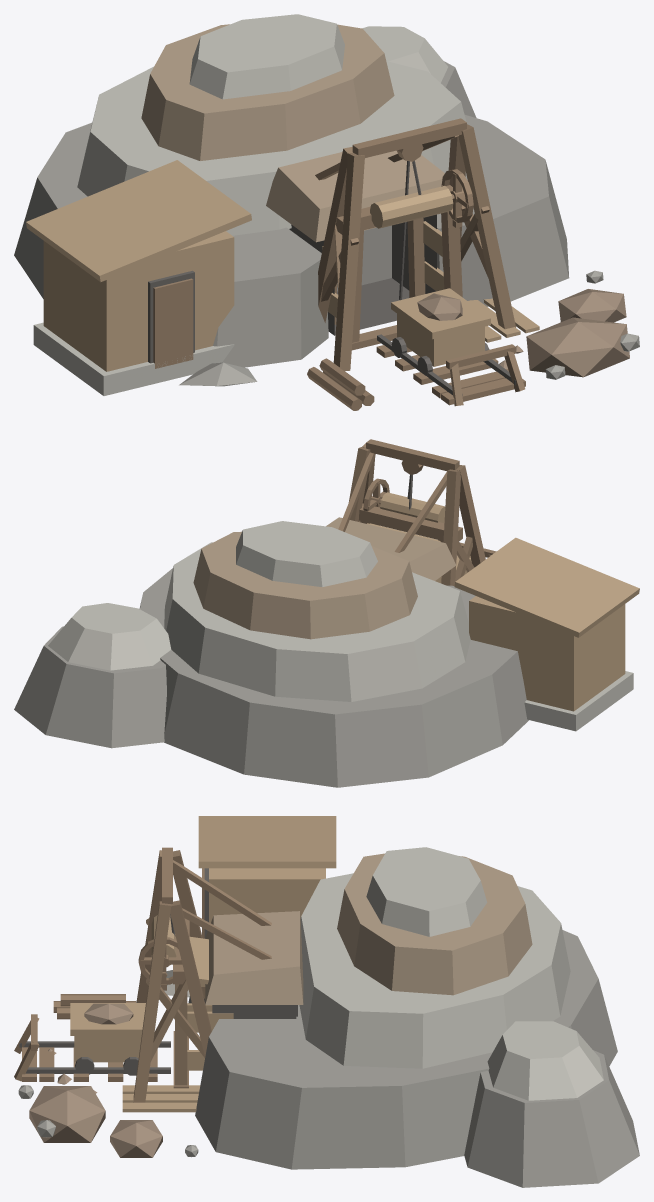
Rendered from era1-mine-COyv33uS.glb.
3 renders of one model, top to bottom at view 1: azimuth 30°, elevation 25°; view 2: azimuth 150°, elevation 25°; view 3: azimuth 270°, elevation 25°, orthographic. The views are drawn at different scales.
Parts seen in each view (by area): view 1: Mine_RockBase, Mine_RockTop, Mine_RockMid, Mine_Shed, Mine_ShedRoof, Mine_RockCap, Mine_RockBrow, Mine_OrePile1, Mine_ShedFooting, Mine_HeadLegFL, Mine_HeadLegFR, Mine_AditDark (+22 smaller); view 2: Mine_RockBase, Mine_RockMid, Mine_RockTop, Mine_CragBase, Mine_Shed, Mine_ShedRoof, Mine_RockCap, Mine_CragTop, Mine_RockBrow, Mine_ShedFooting, Mine_HeadLegBL, Mine_PortalLintel (+7 smaller); view 3: Mine_RockBase, Mine_RockMid, Mine_CragBase, Mine_RockTop, Mine_RockCap, Mine_RockBrow, Mine_ShedRoof, Mine_CragTop, Mine_Shed, Mine_OrePile1, Mine_HeadLegFR, Mine_HeadLegBR (+20 smaller).
Part boxes in pixels (x1,y1,x2,y2): Mine_RockBase: (14, 115, 569, 367); Mine_RockTop: (141, 24, 394, 160); Mine_RockMid: (77, 61, 466, 235); Mine_Shed: (43, 231, 234, 371); Mine_ShedRoof: (26, 160, 251, 282); Mine_RockCap: (189, 14, 344, 99); Mine_RockBrow: (266, 150, 444, 242); Mine_OrePile1: (526, 317, 629, 377); Mine_ShedFooting: (33, 322, 234, 395); Mine_HeadLegFL: (333, 153, 364, 370); Mine_HeadLegFR: (458, 124, 515, 329); Mine_AditDark: (289, 214, 436, 335); Mine_RockBase: (139, 568, 528, 787); Mine_RockMid: (164, 542, 470, 701); Mine_RockTop: (193, 531, 417, 639); Mine_CragBase: (14, 626, 166, 748); Mine_Shed: (469, 596, 625, 711); Mine_ShedRoof: (454, 537, 639, 637); Mine_RockCap: (236, 521, 377, 587); Mine_CragTop: (48, 603, 171, 670); Mine_RockBrow: (326, 517, 456, 580); Mine_ShedFooting: (524, 671, 633, 731); Mine_HeadLegBL: (441, 469, 460, 585); Mine_PortalLintel: (358, 503, 462, 541); Mine_RockBase: (188, 930, 617, 1169); Mine_RockMid: (299, 873, 570, 1068); Mine_CragBase: (464, 1050, 639, 1187); Mine_RockTop: (337, 853, 532, 995); Mine_RockCap: (366, 847, 487, 936); Mine_RockBrow: (205, 911, 303, 1004); Mine_ShedRoof: (198, 816, 336, 868); Mine_CragTop: (487, 1021, 603, 1100); Mine_Shed: (209, 868, 325, 922); Mine_OrePile1: (29, 1086, 105, 1142); Mine_HeadLegFR: (133, 901, 171, 1102); Mine_HeadLegBR: (170, 900, 211, 1057).
Size of the model in its own units: 8.74 by 3.41 by 9.08.
